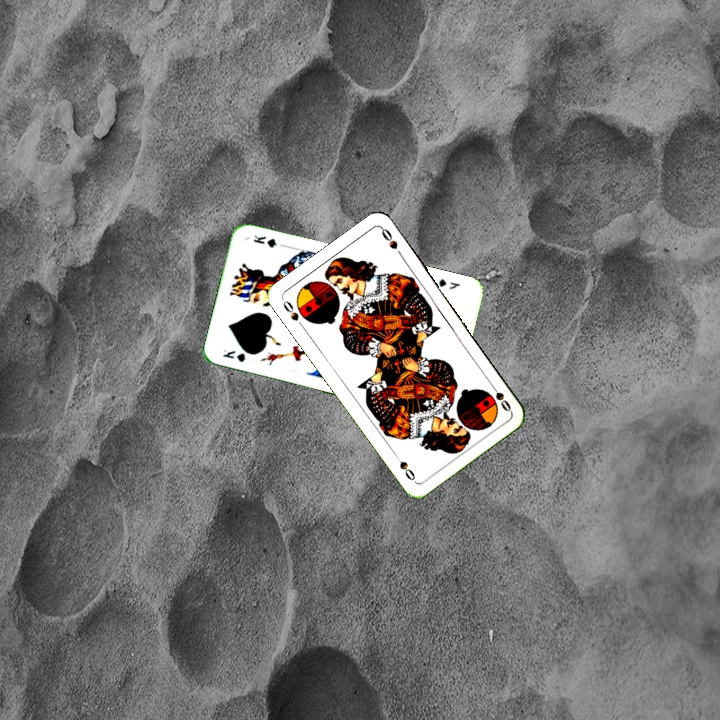GK: (219, 345, 248, 365), (435, 275, 463, 292)
SO: (278, 296, 307, 331), (486, 378, 514, 414)
